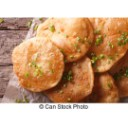poori: (12, 39, 63, 91), (38, 16, 93, 60), (85, 15, 127, 71), (46, 53, 94, 102)
